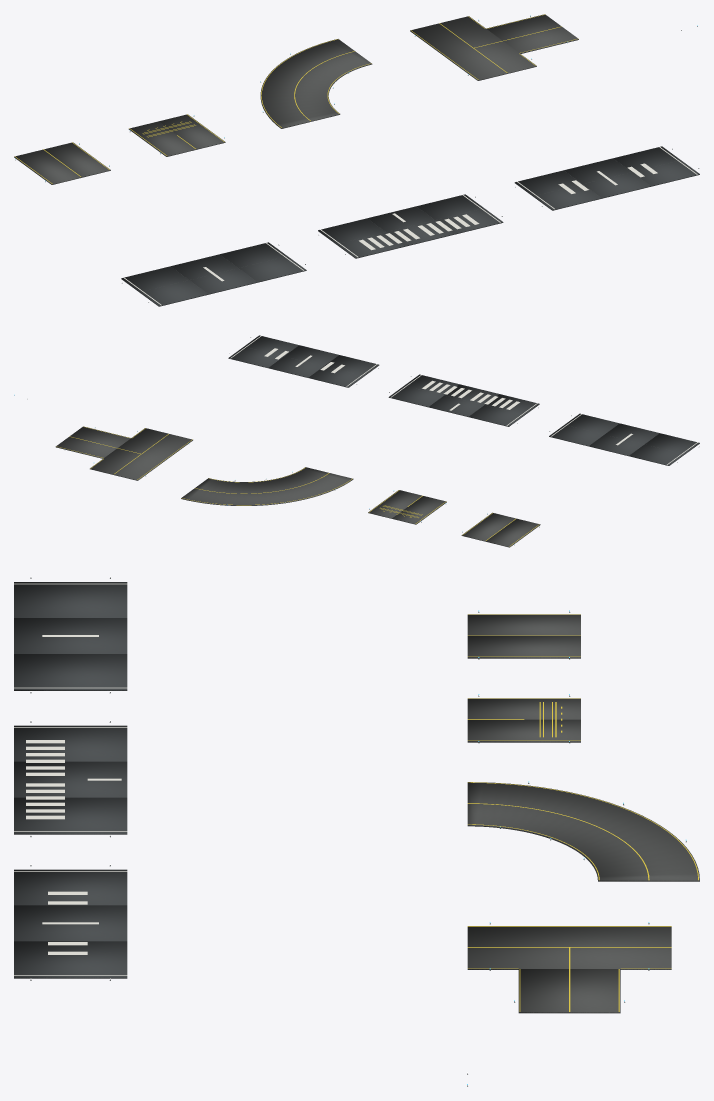
File: PZ_Airfield_Modular_Kit_Catalog.glb
The picture shows the model from 3 angles, top to bottom: view 1: azimuth 30°, elevation 25°; view 2: azimuth 150°, elevation 25°; view 3: azimuth 270°, elevation 25°; orthographic projection. The views are drawn at different scales.
Parts seen in each view (by area): view 1: PZ_Taxiway_Curve90_R32m__TWY_Curve90_R32_Pavement, PZ_Taxiway_TJunction_36m__TWY_T_Main_NS, PZ_Taxiway_TJunction_36m__TWY_T_Branch_EW, PZ_Runway_Straight_45x20m__RWY_AsphaltLane_1, PZ_Runway_Straight_45x20m__RWY_AsphaltLane_3, PZ_Runway_Straight_45x20m__RWY_AsphaltLane_2, PZ_Runway_Touchdown_45x20m__RWY_AsphaltLane_2, PZ_Runway_Touchdown_45x20m__RWY_AsphaltLane_1, PZ_Runway_Touchdown_45x20m__RWY_AsphaltLane_3, PZ_Runway_Threshold_45x20m__RWY_AsphaltLane_1, PZ_Runway_Threshold_45x20m__RWY_AsphaltLane_3, PZ_Runway_Threshold_45x20m__RWY_AsphaltLane_2 (+4 smaller); view 2: PZ_Taxiway_Curve90_R32m__TWY_Curve90_R32_Pavement, PZ_Taxiway_TJunction_36m__TWY_T_Main_NS, PZ_Taxiway_TJunction_36m__TWY_T_Branch_EW, PZ_Runway_Straight_45x20m__RWY_AsphaltLane_1, PZ_Runway_Straight_45x20m__RWY_AsphaltLane_3, PZ_Runway_Touchdown_45x20m__RWY_AsphaltLane_2, PZ_Runway_Straight_45x20m__RWY_AsphaltLane_2, PZ_Runway_Touchdown_45x20m__RWY_AsphaltLane_1, PZ_Runway_Touchdown_45x20m__RWY_AsphaltLane_3, PZ_Runway_Threshold_45x20m__RWY_AsphaltLane_1, PZ_Runway_Threshold_45x20m__RWY_AsphaltLane_3, PZ_Runway_Threshold_45x20m__RWY_AsphaltLane_2 (+4 smaller); view 3: PZ_Taxiway_Curve90_R32m__TWY_Curve90_R32_Pavement, PZ_Taxiway_TJunction_36m__TWY_T_Main_NS, PZ_Taxiway_TJunction_36m__TWY_T_Branch_EW, PZ_Runway_Straight_45x20m__RWY_AsphaltLane_3, PZ_Runway_Touchdown_45x20m__RWY_AsphaltLane_2, PZ_Runway_Straight_45x20m__RWY_AsphaltLane_1, PZ_Runway_Touchdown_45x20m__RWY_AsphaltLane_3, PZ_Runway_Touchdown_45x20m__RWY_AsphaltLane_1, PZ_Runway_Straight_45x20m__RWY_AsphaltLane_2, PZ_Runway_Threshold_45x20m__RWY_AsphaltLane_3, PZ_Runway_Threshold_45x20m__RWY_AsphaltLane_1, PZ_Runway_Threshold_45x20m__RWY_AsphaltLane_2 (+4 smaller).
Part boxes in pixels (x1,y1,x2,y2): PZ_Taxiway_Curve90_R32m__TWY_Curve90_R32_Pavement: (260,39,372,128); PZ_Taxiway_TJunction_36m__TWY_T_Main_NS: (410,16,536,80); PZ_Taxiway_TJunction_36m__TWY_T_Branch_EW: (486,14,578,53); PZ_Runway_Straight_45x20m__RWY_AsphaltLane_1: (121,266,208,306); PZ_Runway_Straight_45x20m__RWY_AsphaltLane_3: (220,242,306,282); PZ_Runway_Straight_45x20m__RWY_AsphaltLane_2: (171,254,257,294); PZ_Runway_Touchdown_45x20m__RWY_AsphaltLane_2: (564,158,650,198); PZ_Runway_Touchdown_45x20m__RWY_AsphaltLane_1: (514,170,601,210); PZ_Runway_Touchdown_45x20m__RWY_AsphaltLane_3: (613,146,699,186); PZ_Runway_Threshold_45x20m__RWY_AsphaltLane_1: (318,218,404,258); PZ_Runway_Threshold_45x20m__RWY_AsphaltLane_3: (416,194,503,234); PZ_Runway_Threshold_45x20m__RWY_AsphaltLane_2: (367,206,453,246); PZ_Taxiway_Curve90_R32m__TWY_Curve90_R32_Pavement: (181,467,353,505); PZ_Taxiway_TJunction_36m__TWY_T_Main_NS: (90,428,192,480); PZ_Taxiway_TJunction_36m__TWY_T_Branch_EW: (55,426,130,458); PZ_Runway_Straight_45x20m__RWY_AsphaltLane_1: (629,433,699,465); PZ_Runway_Straight_45x20m__RWY_AsphaltLane_3: (549,413,619,446); PZ_Runway_Touchdown_45x20m__RWY_AsphaltLane_2: (268,345,338,377); PZ_Runway_Straight_45x20m__RWY_AsphaltLane_2: (589,423,659,456); PZ_Runway_Touchdown_45x20m__RWY_AsphaltLane_1: (308,355,379,387); PZ_Runway_Touchdown_45x20m__RWY_AsphaltLane_3: (228,335,298,367); PZ_Runway_Threshold_45x20m__RWY_AsphaltLane_1: (469,394,539,426); PZ_Runway_Threshold_45x20m__RWY_AsphaltLane_3: (388,374,459,407); PZ_Runway_Threshold_45x20m__RWY_AsphaltLane_2: (428,384,498,416); PZ_Taxiway_Curve90_R32m__TWY_Curve90_R32_Pavement: (467,782,699,881); PZ_Taxiway_TJunction_36m__TWY_T_Main_NS: (467,926,671,969); PZ_Taxiway_TJunction_36m__TWY_T_Branch_EW: (518,969,620,1013); PZ_Runway_Straight_45x20m__RWY_AsphaltLane_3: (14,654,127,690); PZ_Runway_Touchdown_45x20m__RWY_AsphaltLane_2: (14,905,127,941); PZ_Runway_Straight_45x20m__RWY_AsphaltLane_1: (14,582,127,617); PZ_Runway_Touchdown_45x20m__RWY_AsphaltLane_3: (14,941,127,978); PZ_Runway_Touchdown_45x20m__RWY_AsphaltLane_1: (14,869,127,905); PZ_Runway_Straight_45x20m__RWY_AsphaltLane_2: (14,618,127,653); PZ_Runway_Threshold_45x20m__RWY_AsphaltLane_3: (14,797,127,834); PZ_Runway_Threshold_45x20m__RWY_AsphaltLane_1: (14,725,127,761); PZ_Runway_Threshold_45x20m__RWY_AsphaltLane_2: (14,761,127,797).
Bounding box in the file's own units: 212 × 0.65 × 121.
Materials: 8 (5 with a texture image).
